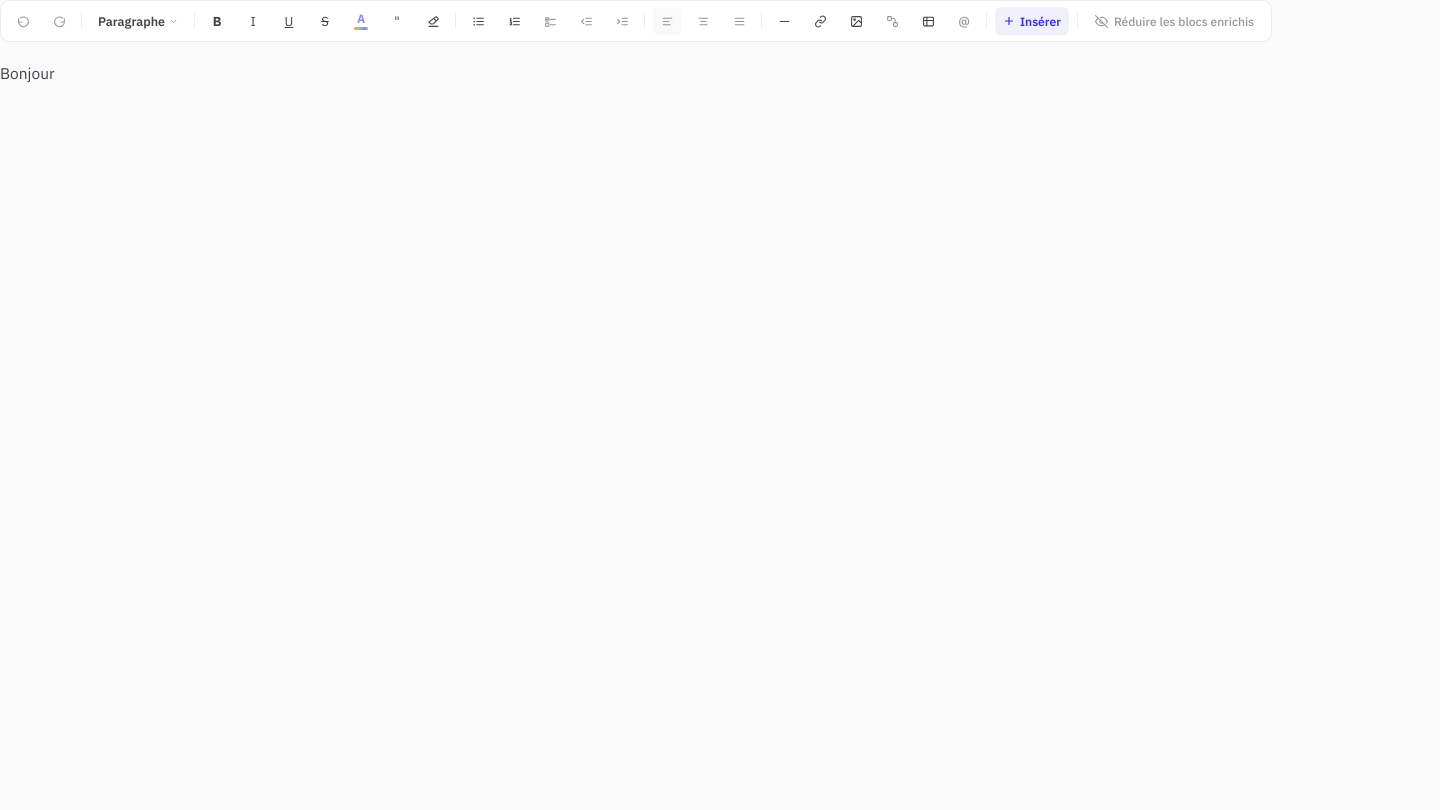
Scenario: EditToolbar › le panneau « Insérer » liste les blocs à venir désactivés, sauf le bloc de code
What coordinates should you click on to do the following:
click the button with test id "edit-insert-btn"
I would click on:
 (1032, 21)
Its box is [995, 7, 1069, 35].
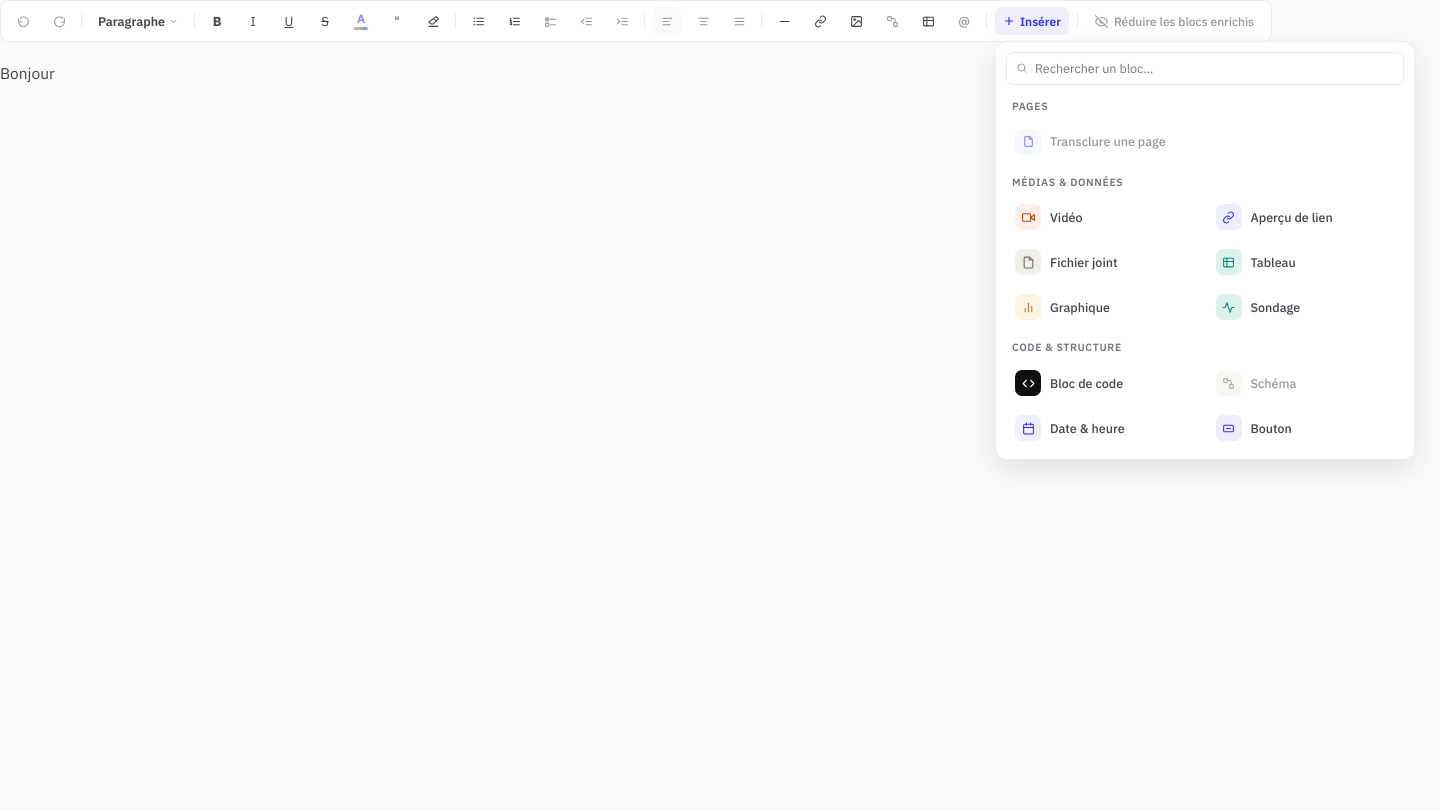
Expected: the dialog with test id "edit-insert-panel" shows "Vidéo", [1006, 196, 1204, 238]
